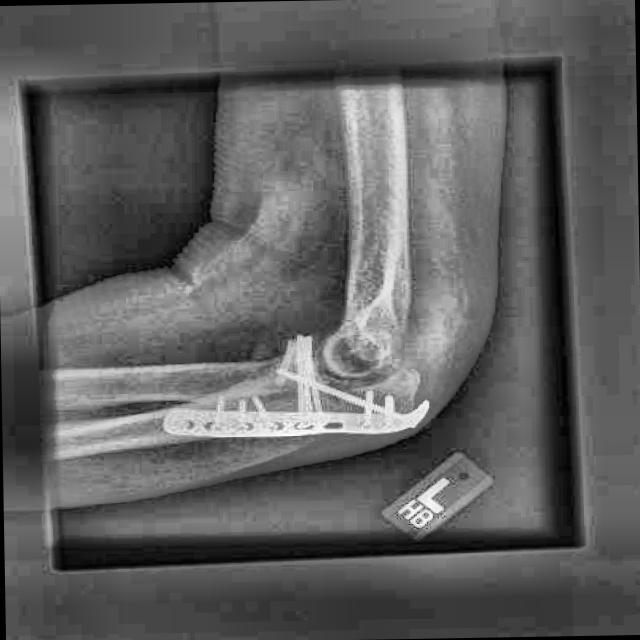elbow positive: (311, 368, 397, 430)
